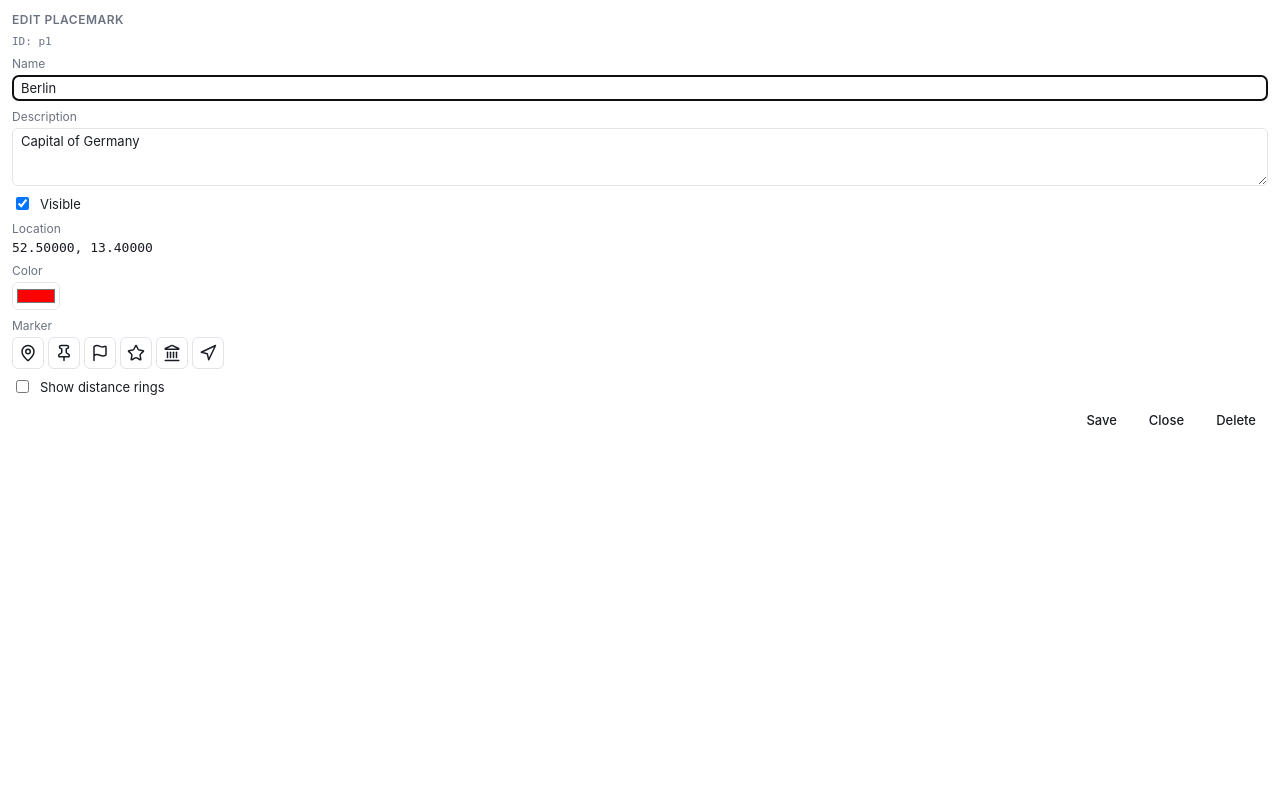
Test: PlacemarkEditor - close confirmation › asks to confirm when there are unsaved edits, instead of closing immediately
In the field labelled "Name": (640, 88) [12,75,1268,101], type " Trip"
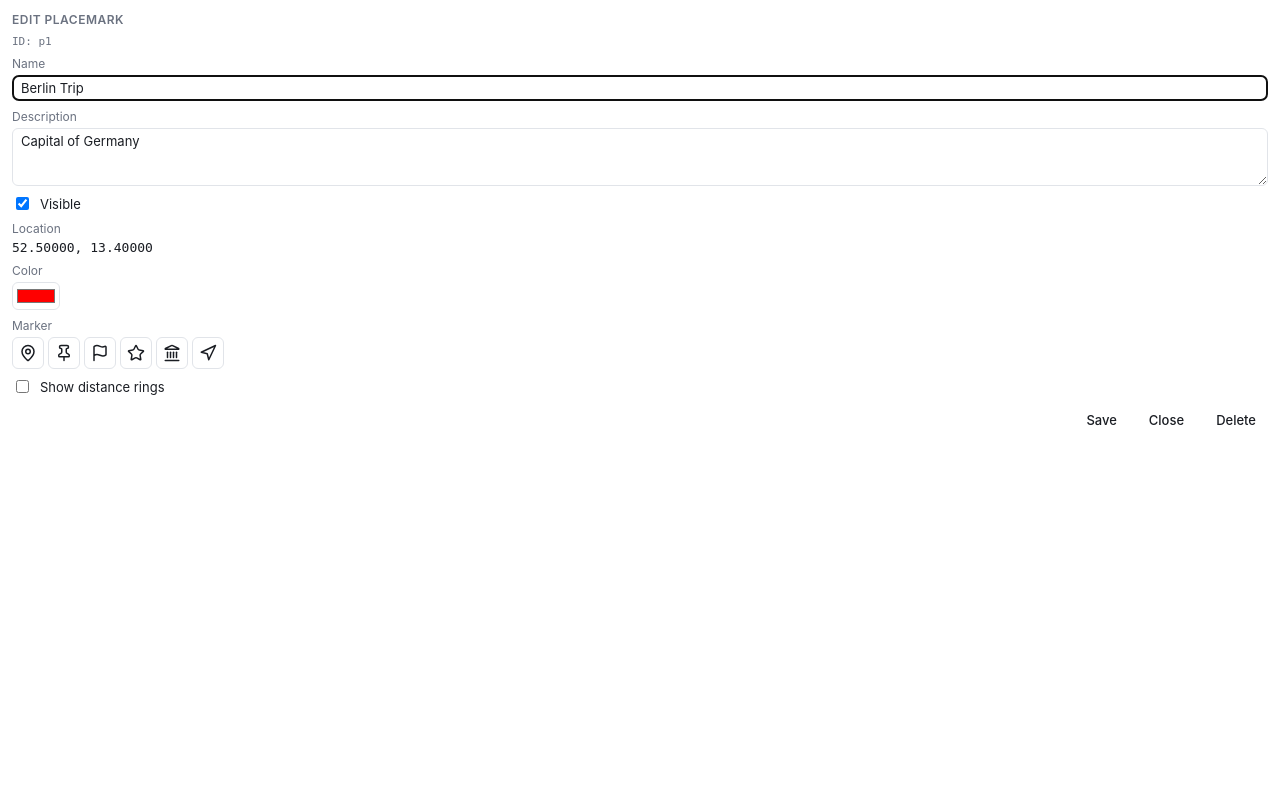
Click the button "Close": (1166, 420) [1137,404,1196,436]
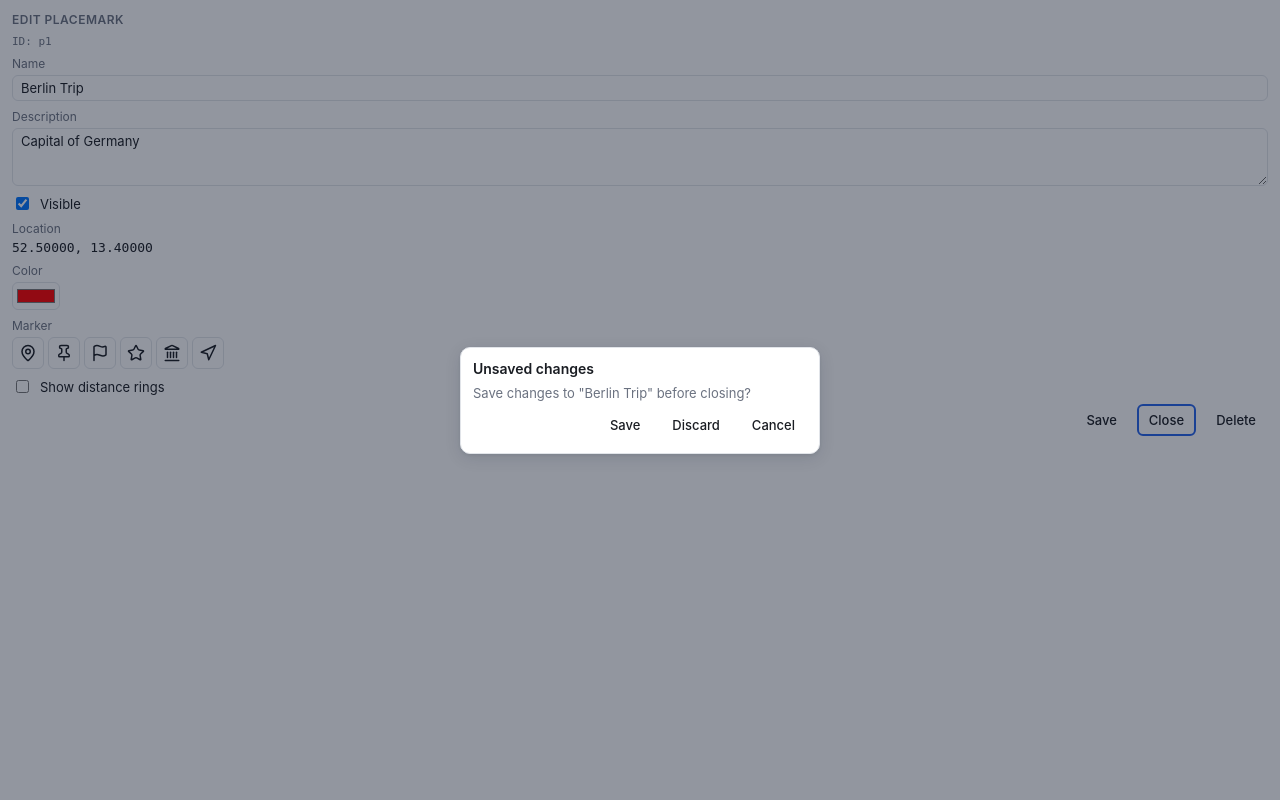
Check: the dialog "Unsaved changes" is shown, box [460,346,820,454]
